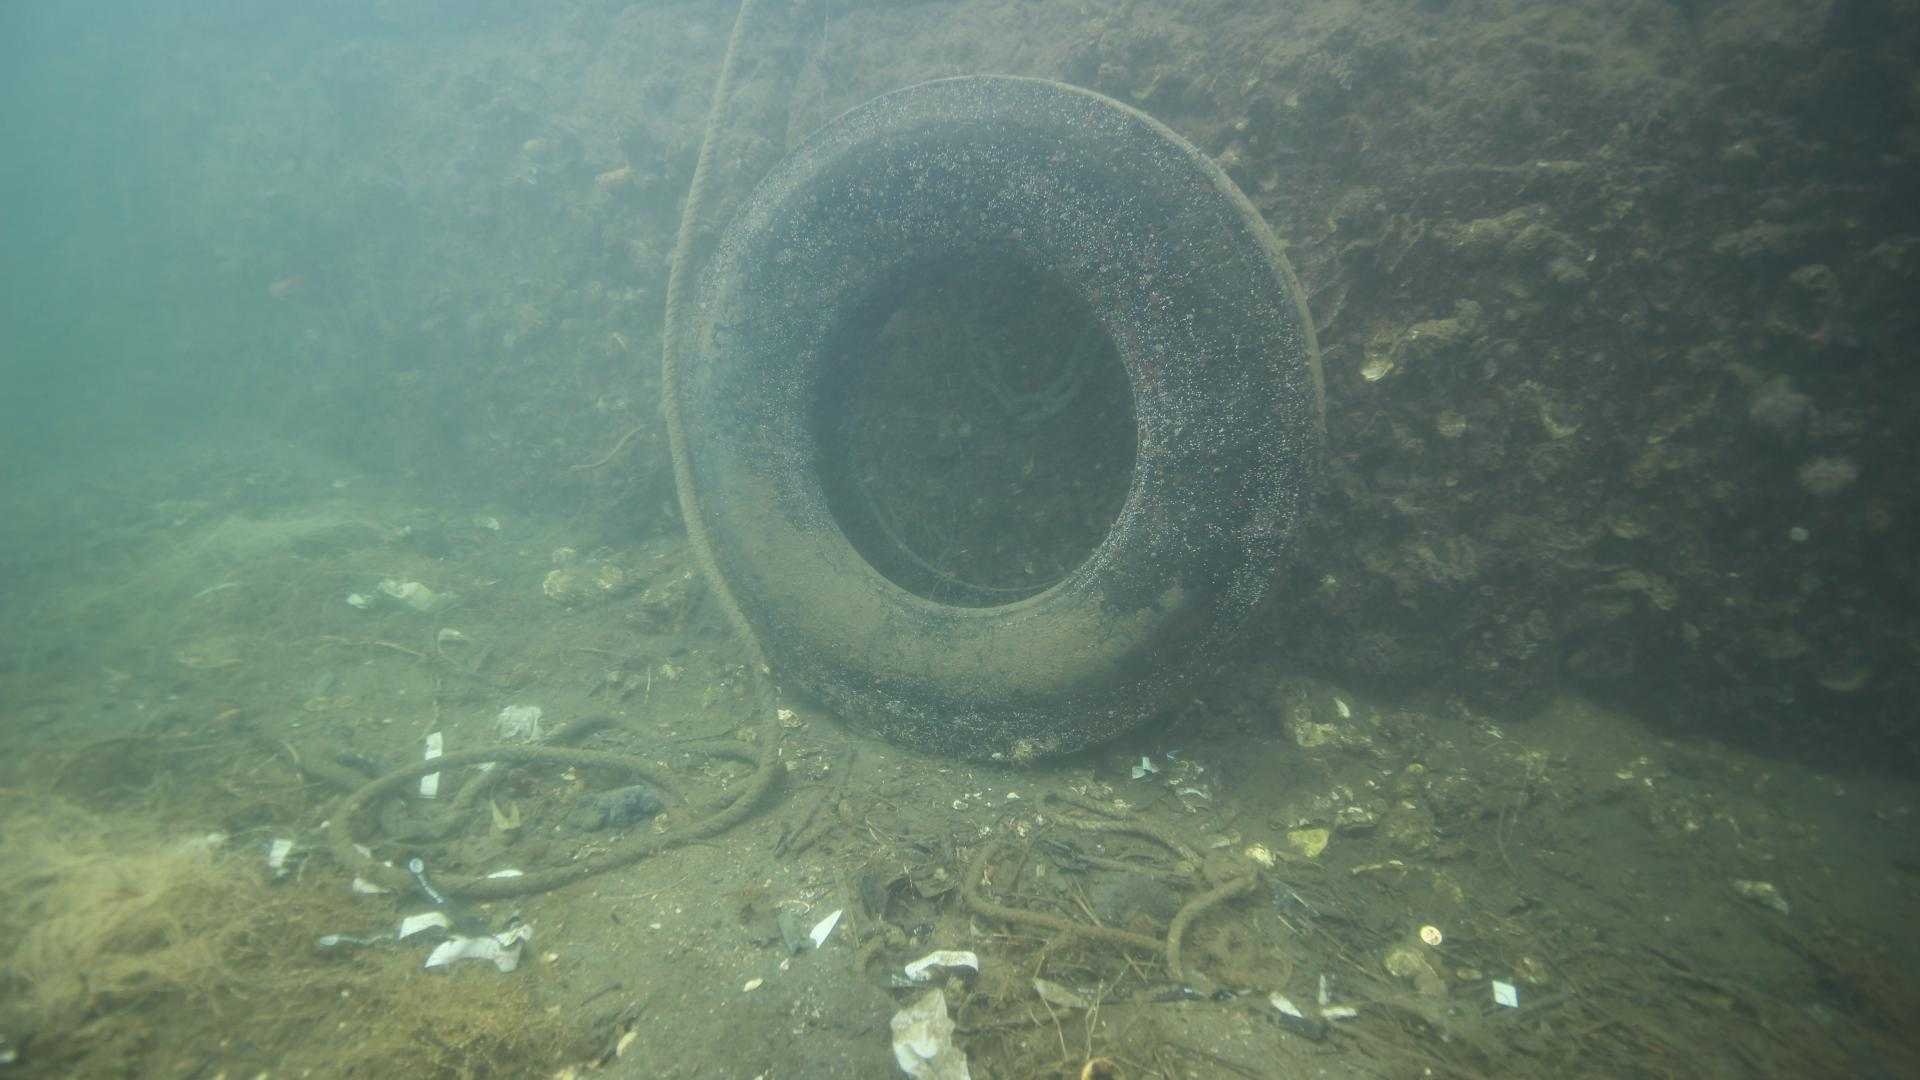rope: (330, 0, 781, 897)
tire: (686, 70, 1329, 764)
